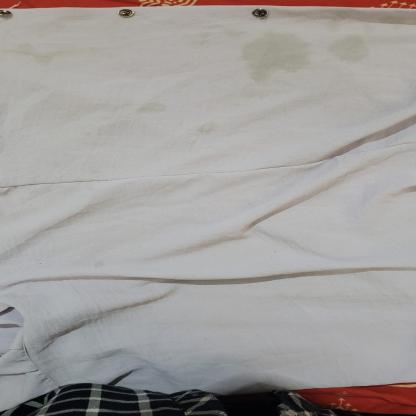spot: (238, 29, 321, 101), (313, 19, 380, 67), (176, 22, 262, 46), (6, 41, 78, 66), (122, 94, 175, 116), (200, 118, 220, 134)
